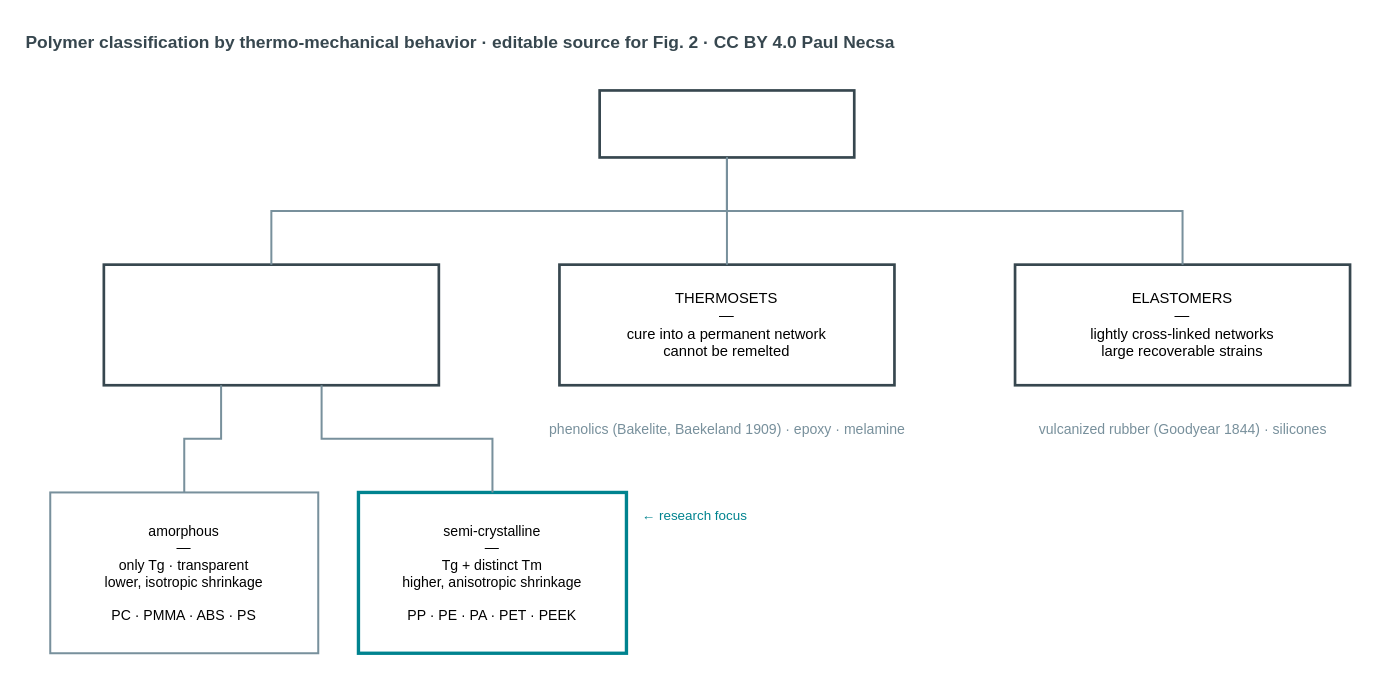
Some shapes in this 1386 by 678 pixel diagram are drawn without their labels. The shapes that lost their labels are listed below. From the top down, each one's centre as x and y in pixels, then its label:
At point (726, 123): "POLYMERS".
At point (271, 324): "THERMOPLASTICS — soften on heating · remeltable basis of molding & extrusion".
